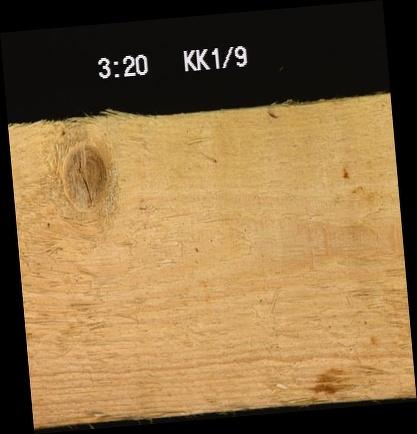sound_knot: (52, 118, 111, 225)
